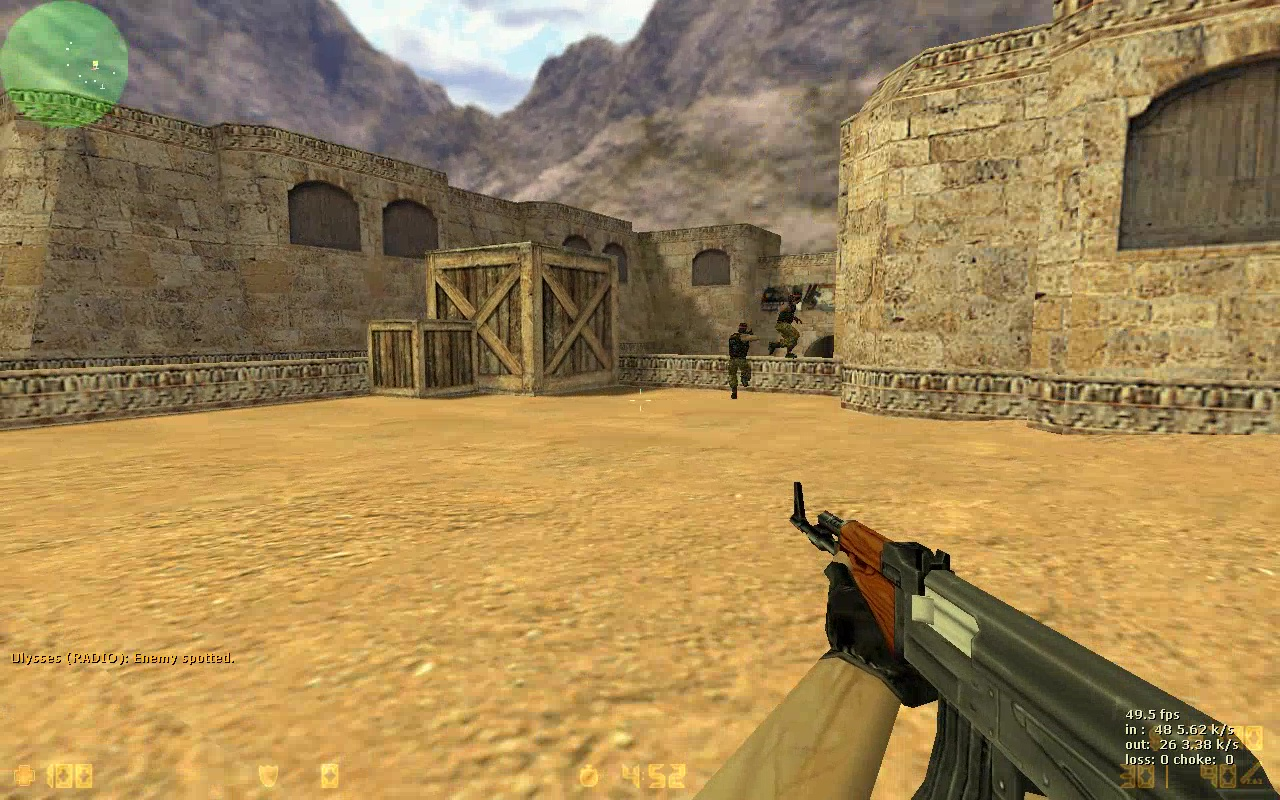terr1: (725, 321, 764, 397), (768, 296, 808, 360)
